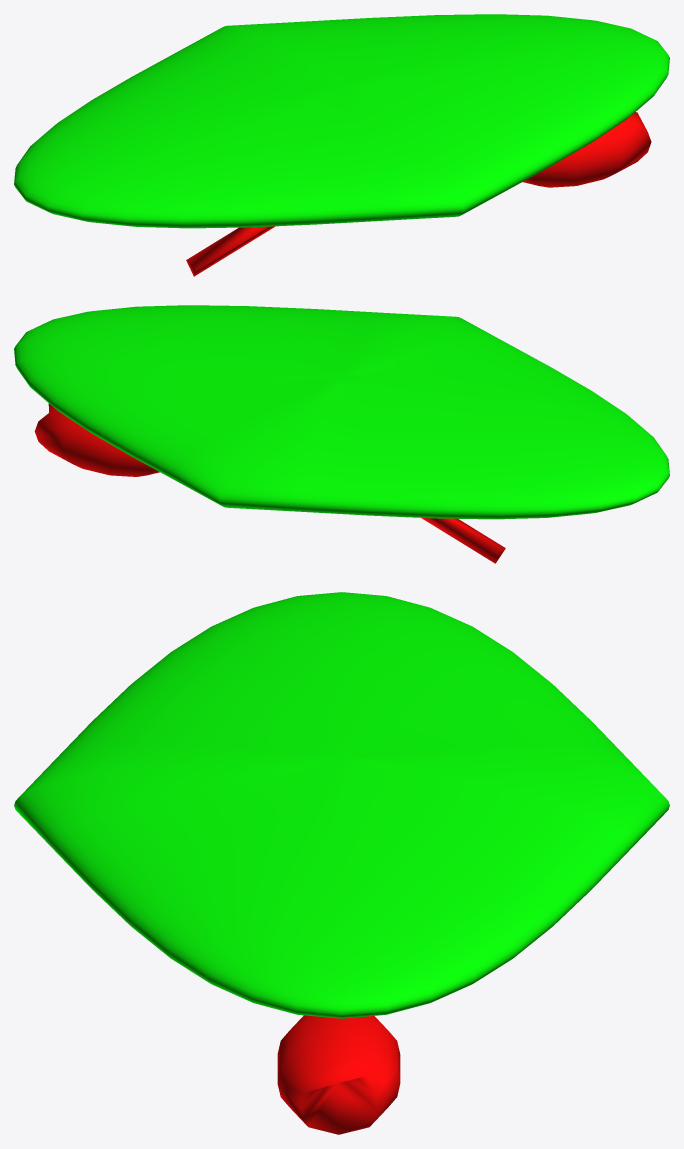
Rendered from nave3.fbx.
3 views of the same model, one above another, from view 1: azimuth 30°, elevation 25°; view 2: azimuth 150°, elevation 25°; view 3: azimuth 270°, elevation 25° (orthographic). The views are drawn at different scales.
Parts seen in each view (by area): view 1: Sphere, Sphere.002, Cylinder; view 2: Sphere, Sphere.002, Cylinder; view 3: Sphere, Sphere.002.
Part boxes in pixels (bbox=[...]): Sphere: bbox=[14, 14, 669, 228]; Sphere.002: bbox=[523, 112, 651, 187]; Cylinder: bbox=[186, 226, 275, 276]; Sphere: bbox=[14, 305, 669, 519]; Sphere.002: bbox=[34, 403, 159, 476]; Cylinder: bbox=[421, 518, 505, 563]; Sphere: bbox=[14, 592, 669, 1018]; Sphere.002: bbox=[277, 1015, 400, 1134].
Bounding box in the file's own units: 67.62 × 15.19 × 44.9.
